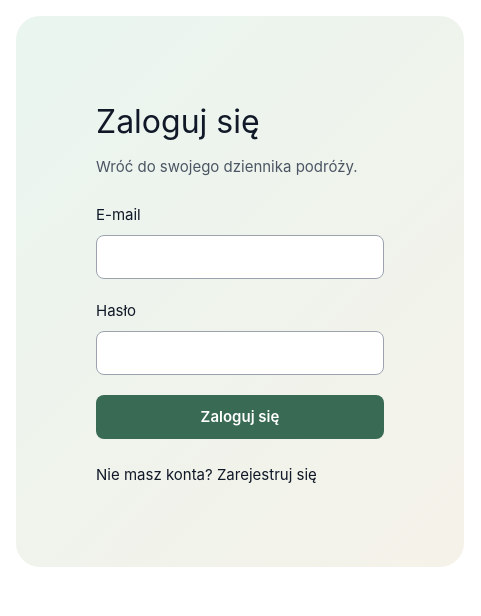
Test: LoginView › shows API validation errors on the matching field
This screenshot has width=481, height=616.
In the field with id "email": (240, 257) [96, 235, 384, 279], type "ala@example.com"
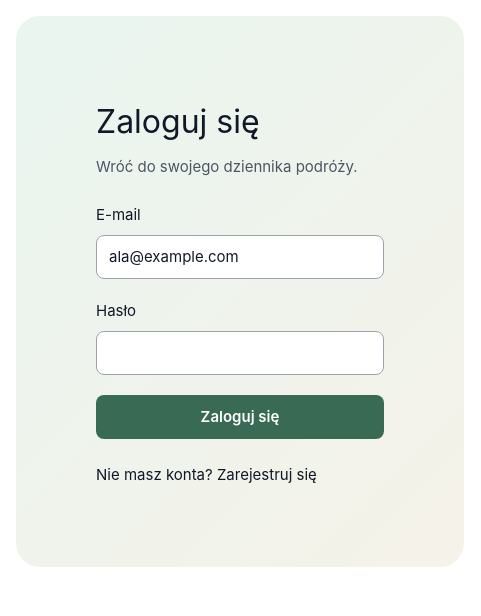
In the password field labelled "Hasło": (240, 353) [96, 331, 384, 375], type "Secret123!"
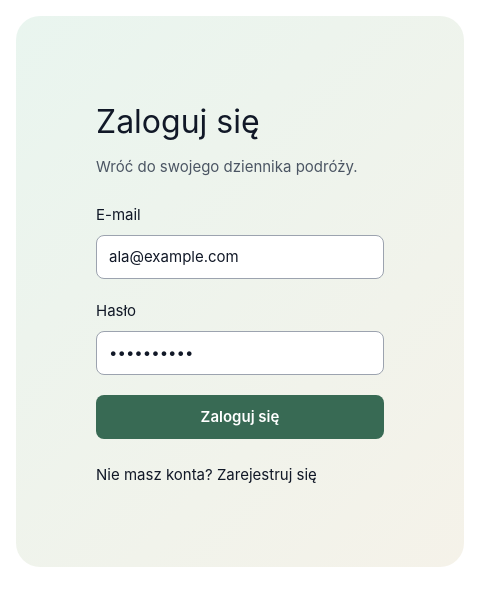
Submit the form, box [96, 203, 384, 439]
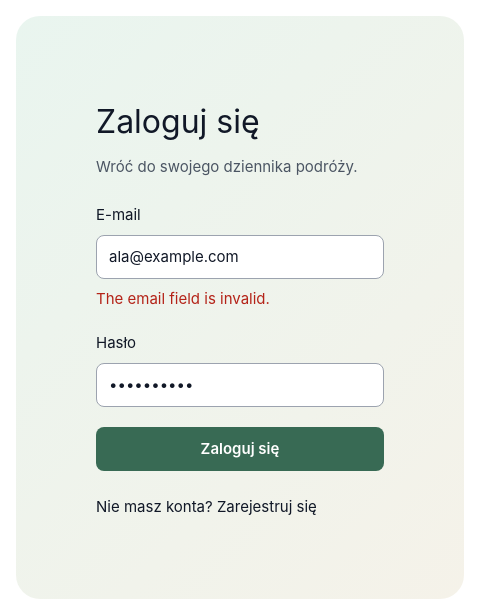
Expected: the text "The email field is invalid." is shown, [96, 289, 270, 308]
